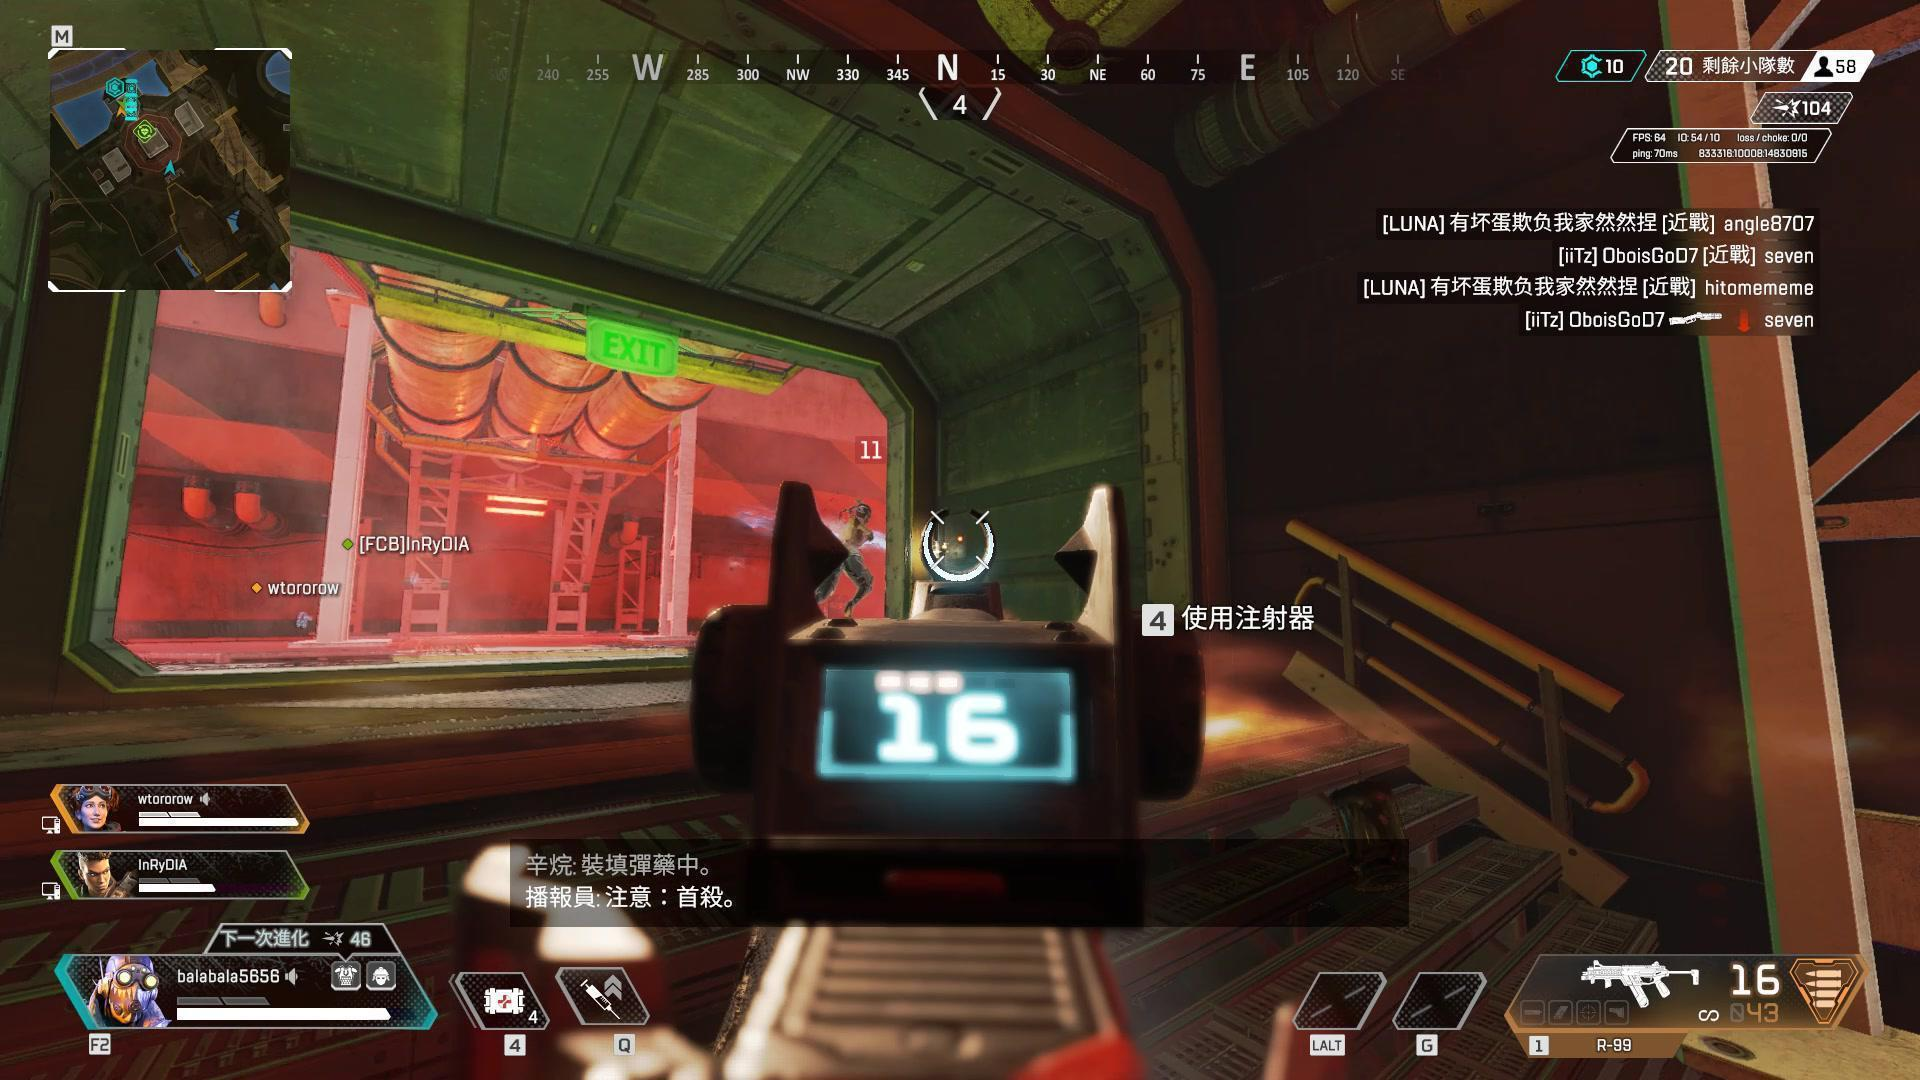avatar: (839, 500, 876, 618)
